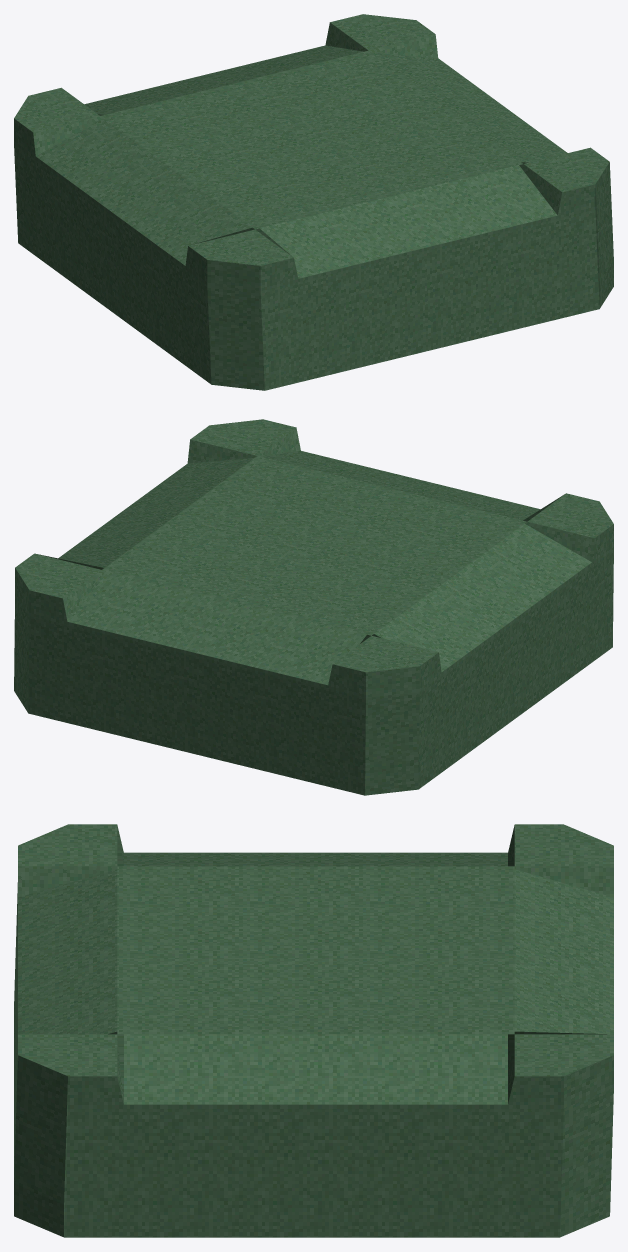
File: LaunchPlatform.fbx
3 views of the same model, one above another, from view 1: azimuth 30°, elevation 25°; view 2: azimuth 150°, elevation 25°; view 3: azimuth 270°, elevation 25° (orthographic). The views are drawn at different scales.
Parts seen in each view (by area): view 1: LaunchPlatform; view 2: LaunchPlatform; view 3: LaunchPlatform.
Boxes of the visible parts, x1,y1,x2,y2 form: LaunchPlatform: (14, 14, 613, 390); LaunchPlatform: (14, 419, 613, 795); LaunchPlatform: (14, 824, 613, 1237).
Bounding box in the file's own units: 16.11 × 16.11 × 4.73.
